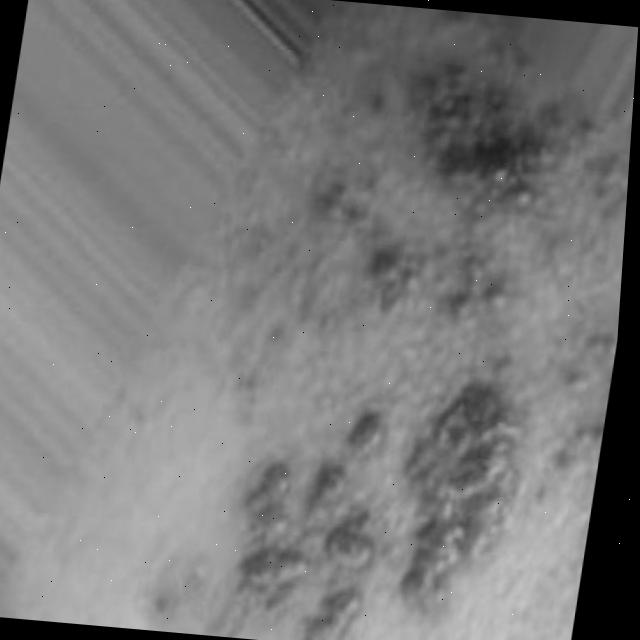Shingles: (137, 31, 638, 640)
